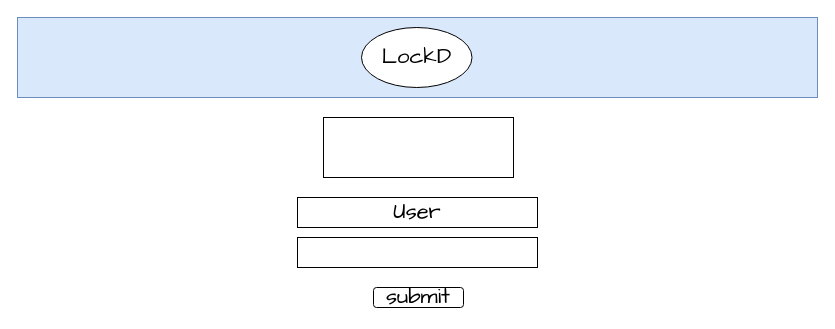
This 835x329 diagram has some shape labels left out. The centre of each missing label's shape, as x and y in pixels:
Login: the point at 418,147
Pass: the point at 417,252
